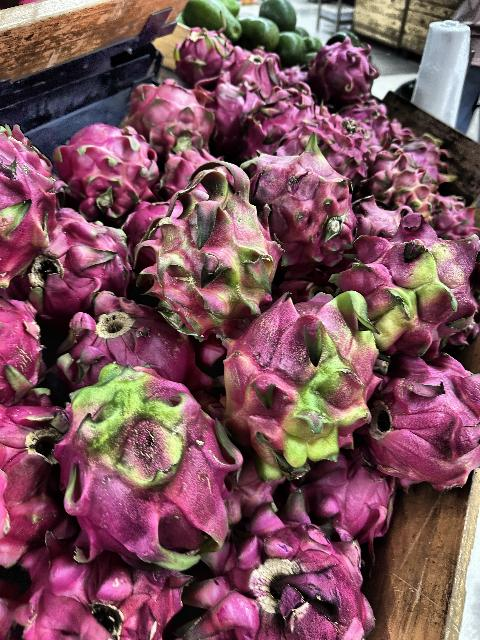buah-naga-belum-matang: (64, 361, 246, 564), (222, 296, 374, 474), (146, 163, 270, 324), (356, 214, 474, 356), (362, 150, 432, 218)
buah-naga-matang: (194, 512, 378, 640), (30, 542, 190, 640), (376, 352, 480, 486), (59, 287, 192, 391), (0, 403, 78, 565), (256, 148, 358, 264), (38, 205, 134, 312), (294, 459, 402, 546), (1, 127, 60, 285), (52, 120, 156, 204), (125, 84, 215, 156), (0, 298, 44, 406), (312, 38, 384, 102), (250, 86, 306, 152), (222, 44, 276, 90), (203, 81, 245, 132), (181, 28, 219, 74)
